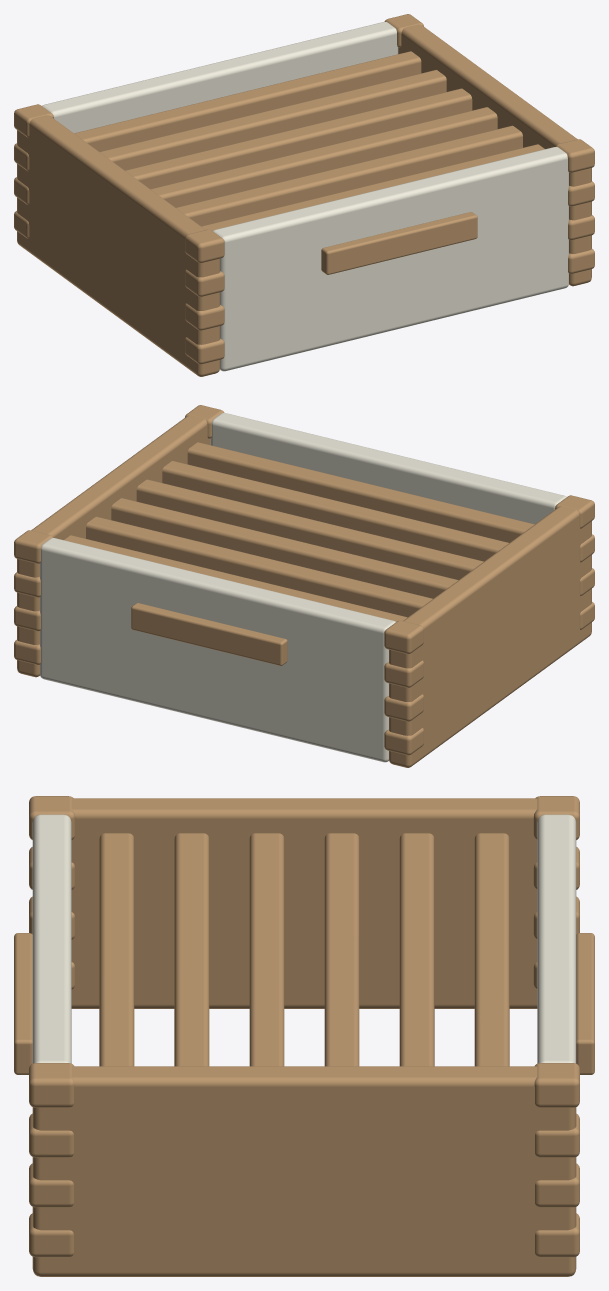
Rendered from beekeeping-and-honey-farm-honey-super-23769c40__30700.glb.
3 renders of one model, top to bottom at view 1: azimuth 30°, elevation 25°; view 2: azimuth 150°, elevation 25°; view 3: azimuth 270°, elevation 25°, orthographic. The views are drawn at different scales.
Parts seen in each view (by area): view 1: honey-super; view 2: honey-super; view 3: honey-super.
Part boxes in pixels (x1,y1,x2,y2): honey-super: (14, 14, 594, 376); honey-super: (14, 405, 594, 767); honey-super: (14, 796, 594, 1276).
Size of the model in its own units: 0.524 by 0.1705 by 0.449.
